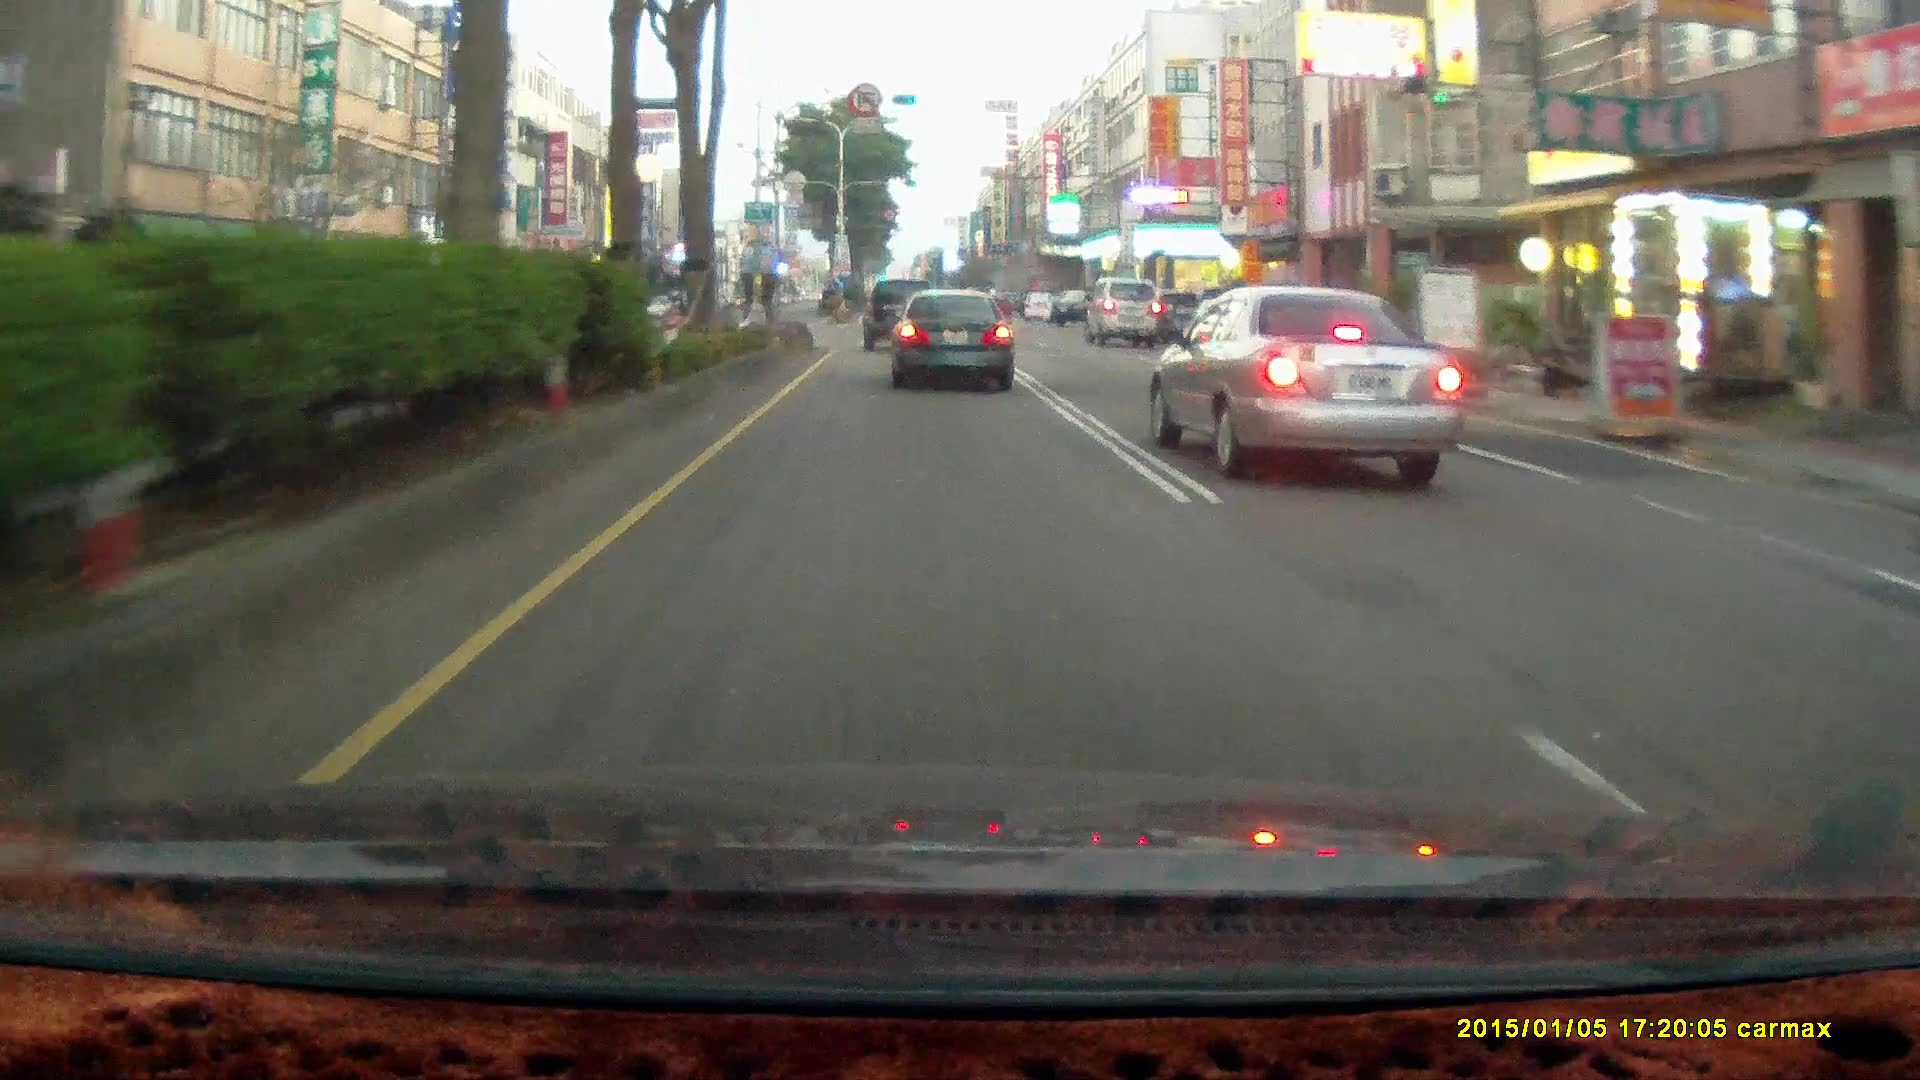vehicle: (1149, 286, 1464, 473), (890, 287, 1019, 396), (890, 285, 1011, 390), (862, 278, 942, 355), (861, 281, 938, 353), (1085, 278, 1163, 347), (1084, 277, 1160, 345), (1051, 284, 1108, 323), (1023, 287, 1054, 316)
